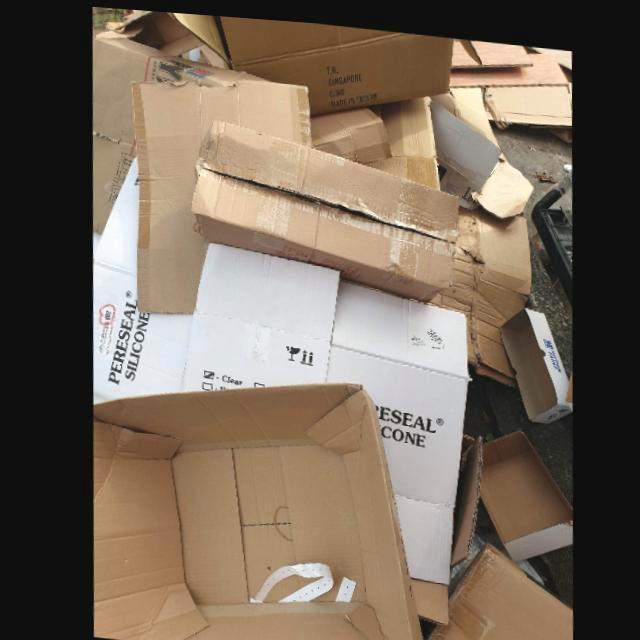cardboard: (89, 159, 465, 619), (87, 378, 418, 640), (187, 117, 457, 296), (130, 76, 309, 312), (219, 13, 453, 112), (424, 190, 529, 380), (419, 535, 568, 640), (475, 422, 568, 555)
